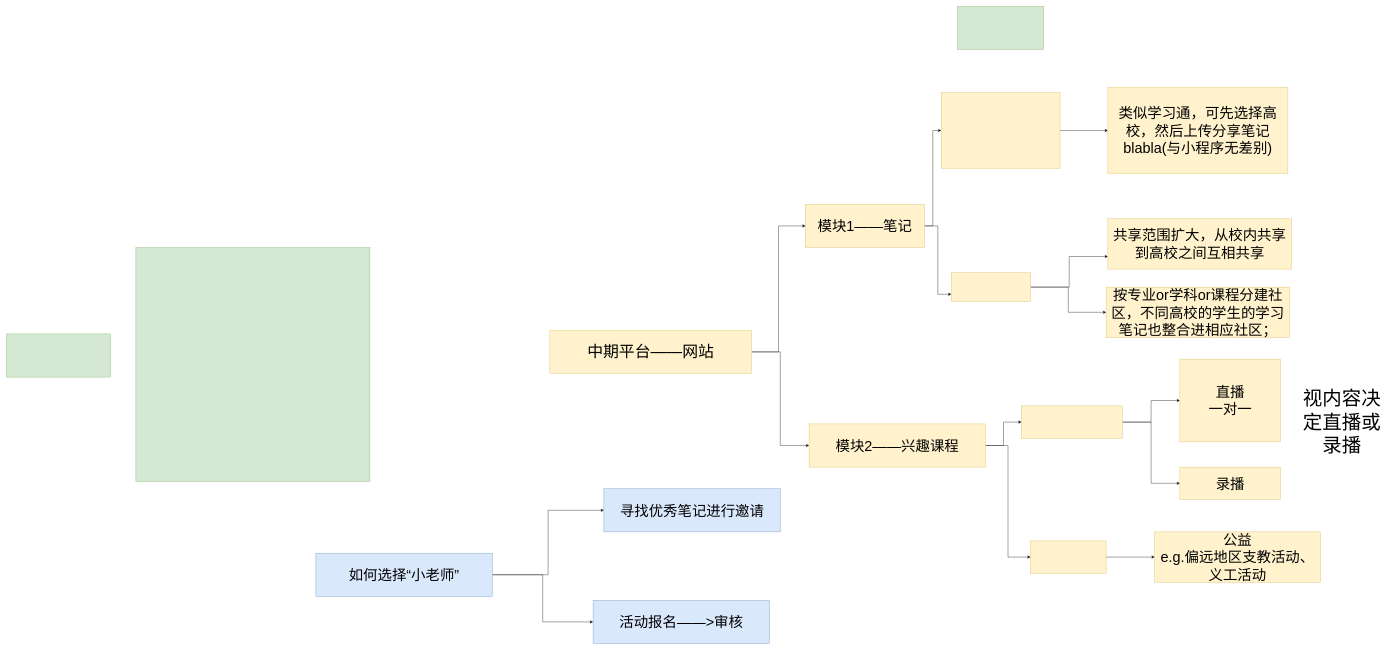
Some shapes in this 1395 by 650 pixel diagram are drawn without their labels. The shapes that lost their labels are listed below. From the top down, each one's box as (x1, y1, x2, y2) in pixels, then its label:
(957, 6, 1044, 50): 功能
(941, 92, 1060, 168): 保留小程序的功能
(951, 272, 1030, 302): more
(6, 334, 111, 377): 前期-小程序
(1021, 406, 1122, 438): 线上
(1030, 541, 1106, 573): 线下
